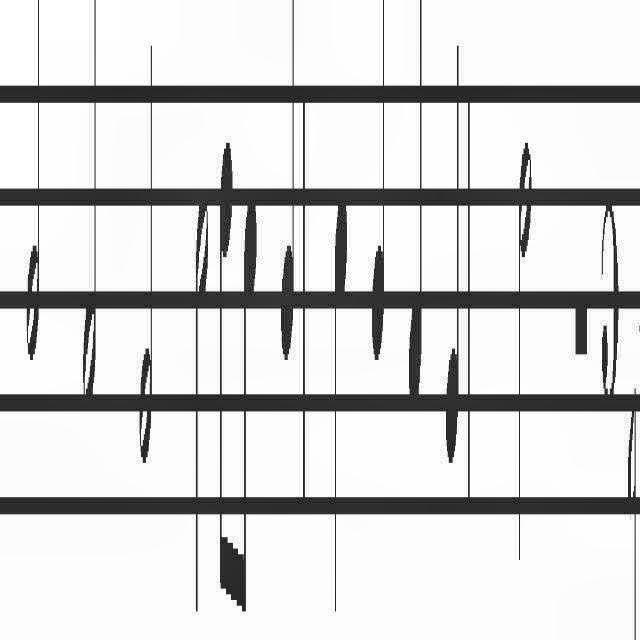Bemol: (628, 366, 636, 640)
Eighth-note: (238, 187, 258, 637), (218, 134, 235, 618)
Half-note: (138, 19, 154, 488), (516, 125, 532, 571), (193, 190, 209, 626), (83, 1, 97, 423), (27, 0, 41, 372)
Quarter-note: (444, 23, 460, 477), (333, 198, 349, 636), (408, 0, 424, 416), (372, 0, 388, 372), (280, 0, 295, 388)
